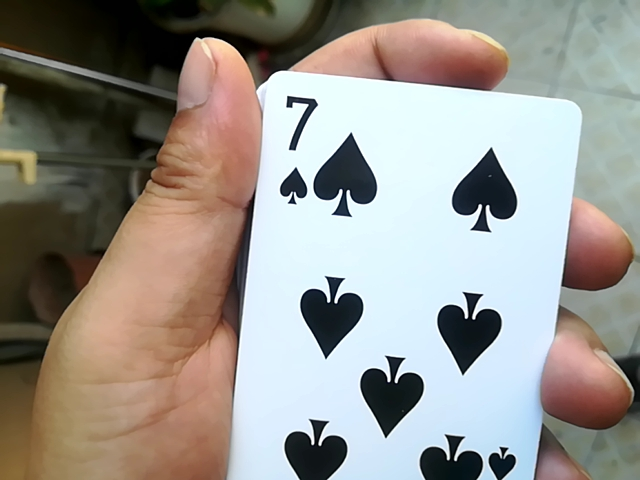ht 7: (220, 82, 575, 474)
